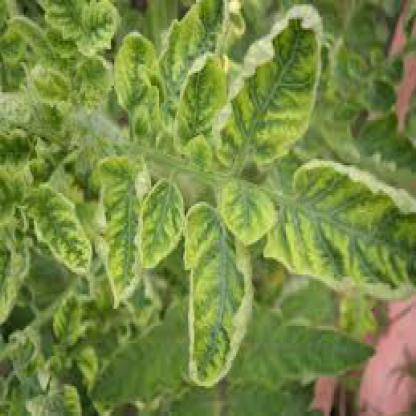tomato leaf yellow virus: (215, 6, 336, 184), (289, 157, 414, 328), (172, 204, 254, 414), (98, 161, 157, 322), (31, 176, 88, 274), (112, 32, 164, 137), (177, 49, 233, 146), (40, 2, 109, 73), (138, 176, 185, 266), (55, 287, 85, 352)
